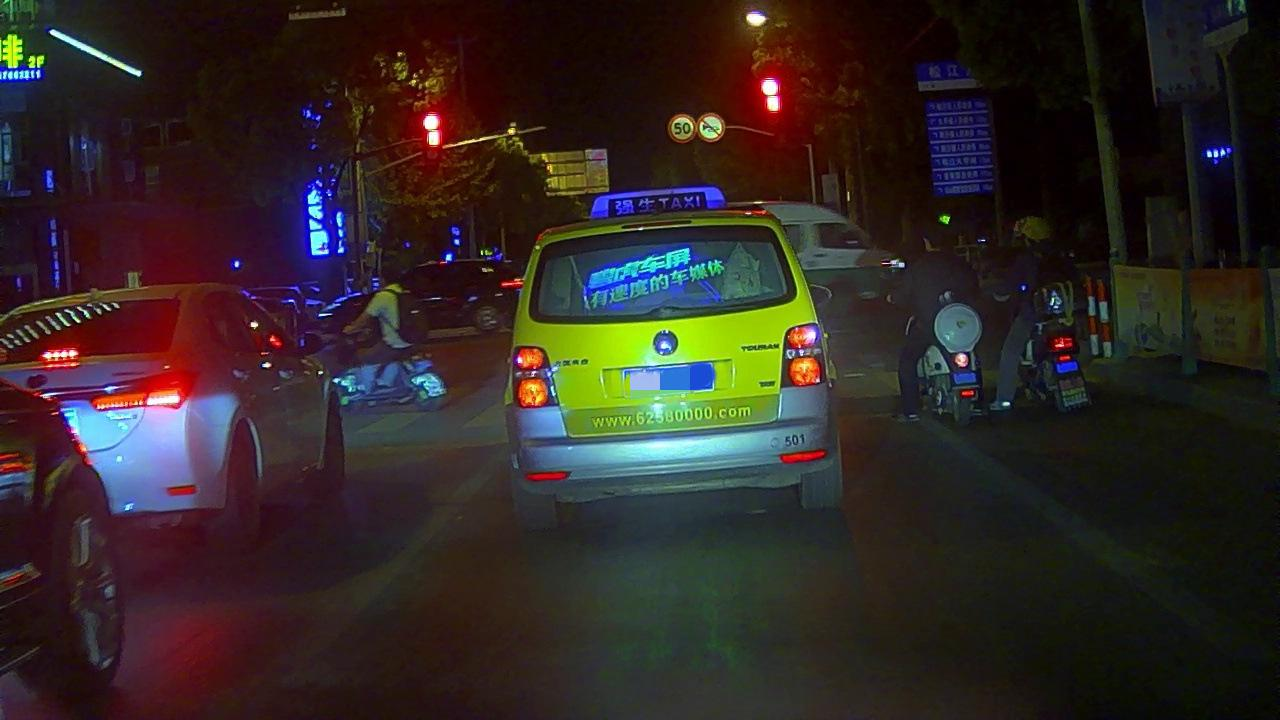traffic_light: (418, 110, 447, 153), (757, 75, 784, 116)
